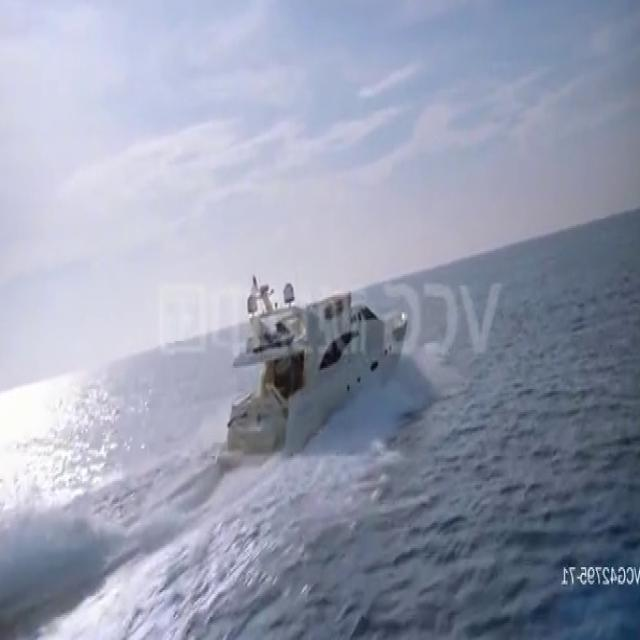houseboat: (224, 280, 408, 470)
